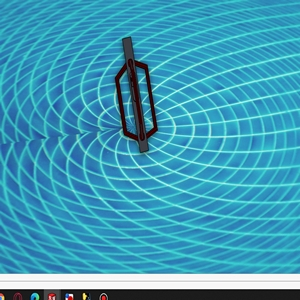submarine: (111, 36, 160, 152)
